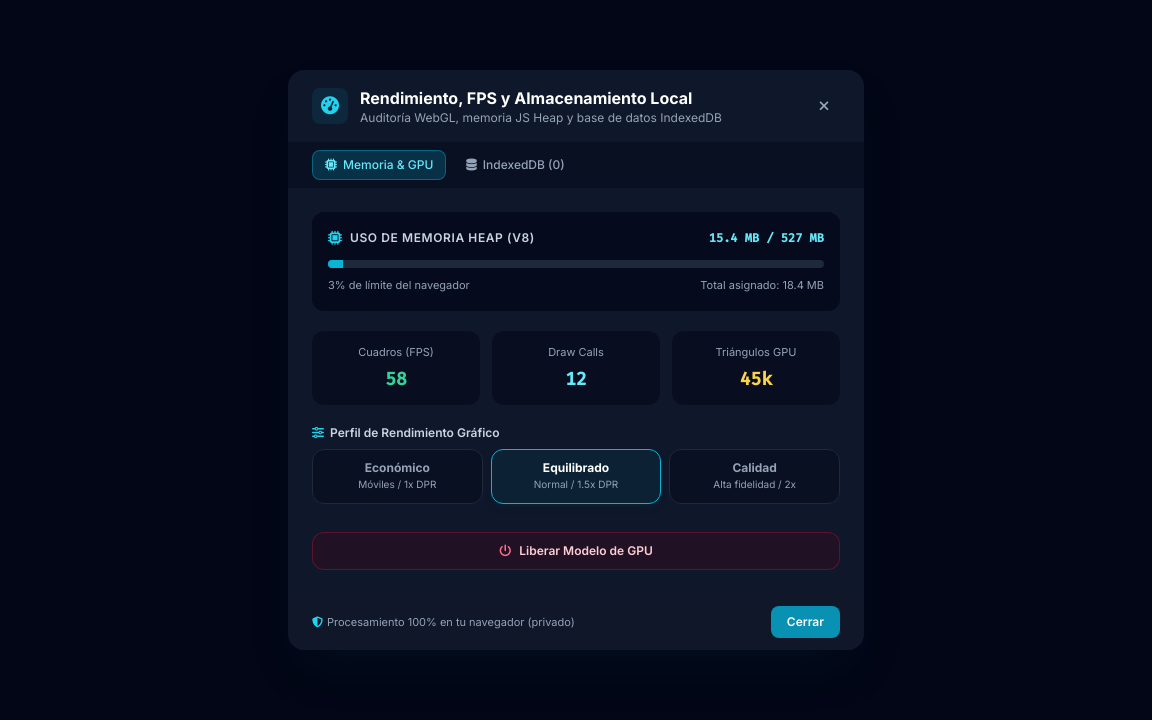
Fase 9 — Rendimiento, FPS y Almacenamiento IndexedDB › renderiza IfcMemoryModal con pestañas de Memoria/GPU e IndexedDB
Expected: the heading "Rendimiento, FPS y Almacenamiento Local" is shown, 360,86 -> 722,110
Expected: the text "58" is shown, 385,367 -> 407,391
Note: Cambiar a pestaña IndexedDB
Click the button "IndexedDB (0)". click: [516, 165]
box: 454,150 -> 577,180
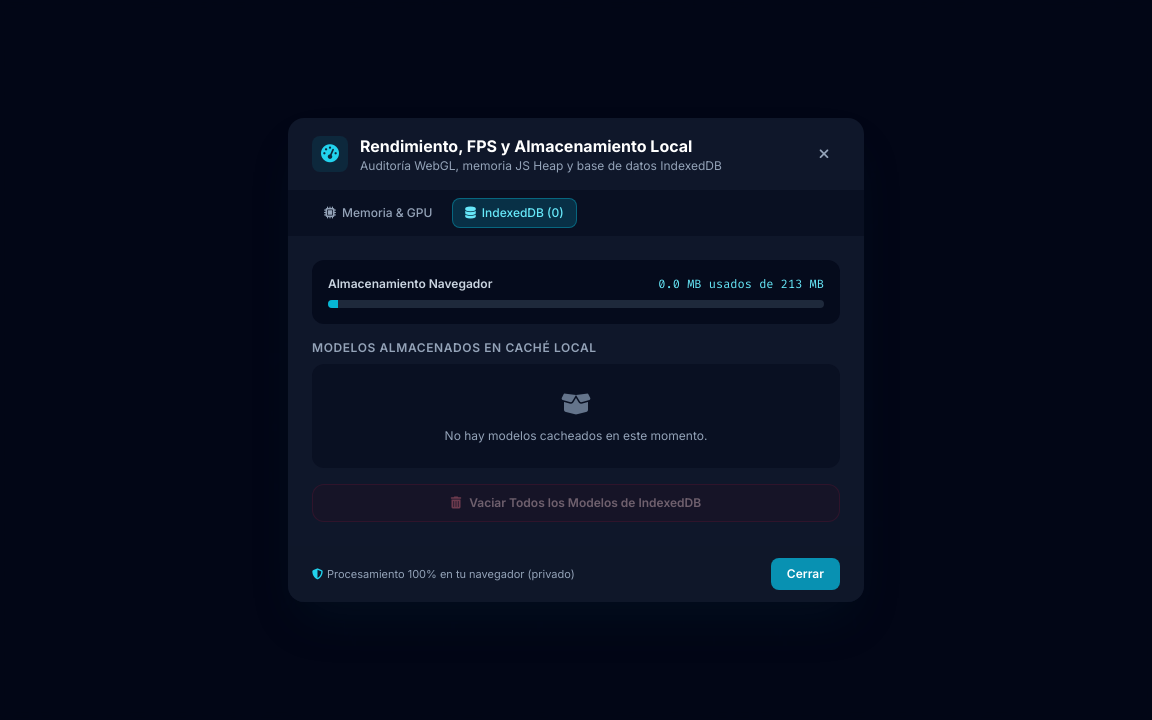
Result: the text "Almacenamiento Navegador" is shown at 328,276 -> 492,292
Result: the heading "Modelos Almacenados en Caché Local" is shown at 312,340 -> 597,355
